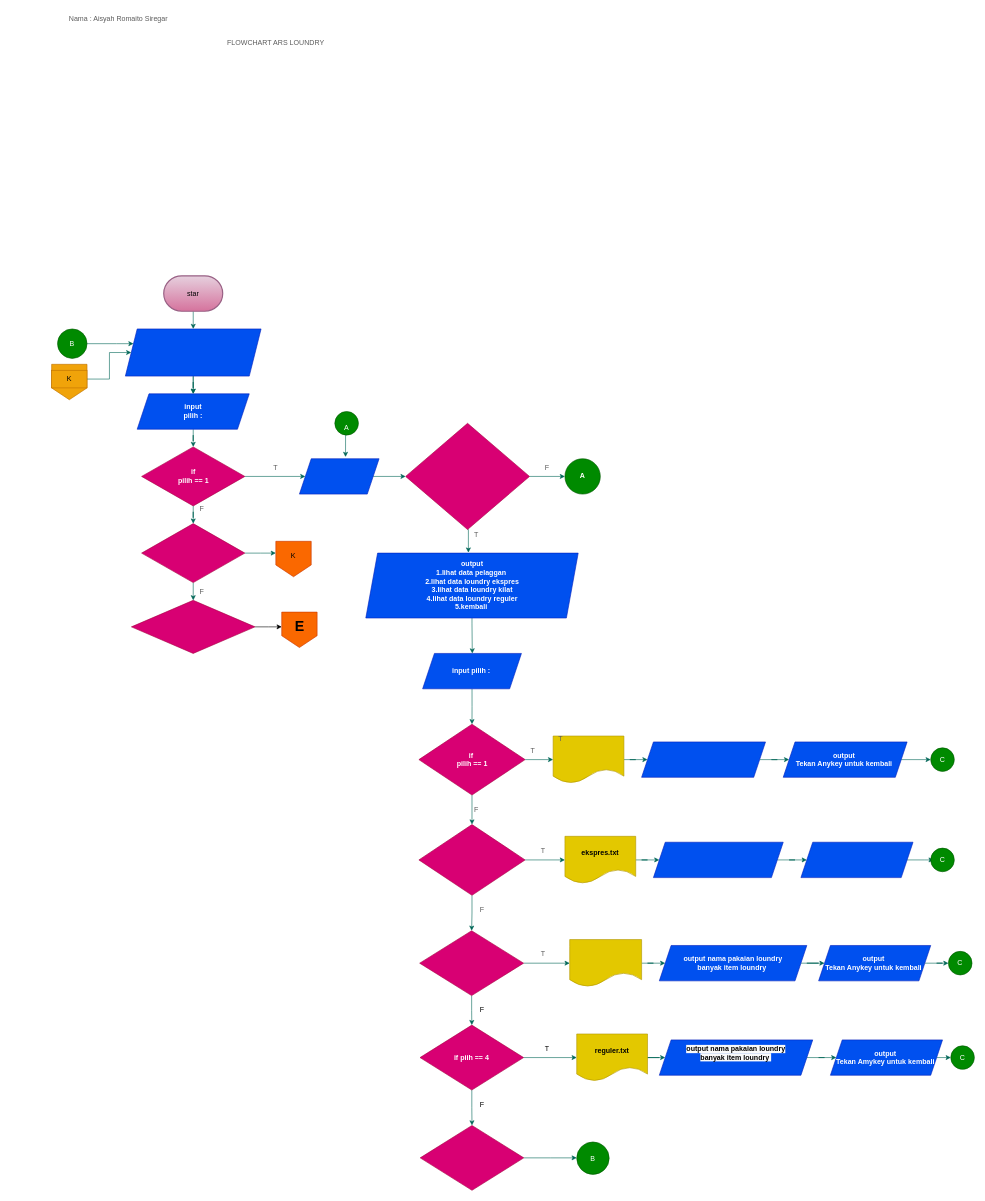
The diagram is 985 pixels wide and 1201 high, and some of its shapes have lost their labels. Each missing label, with the box of its shape:
data.txt: (553, 735, 624, 783)
else if pilih == 2: (141, 523, 245, 583)
else if pilih == 3: (131, 600, 255, 653)
if kode akses == ''12100": (405, 423, 530, 530)
if piih == 3: (419, 930, 524, 996)
if piih == 5: (420, 1125, 524, 1190)
if pilih == 2: (418, 824, 525, 895)
input kode akses: (299, 458, 379, 494)
kilat.txt: (569, 939, 642, 987)
output 1.admin 2.user 3.keluar: (125, 328, 261, 376)
output nama pakaian loundry , banyak item loundry: (653, 842, 783, 878)
output nama,nohp alamat,jenis kelamin: (641, 741, 766, 777)
output Tekan Anykeyuntuk kembali: (800, 842, 913, 878)
